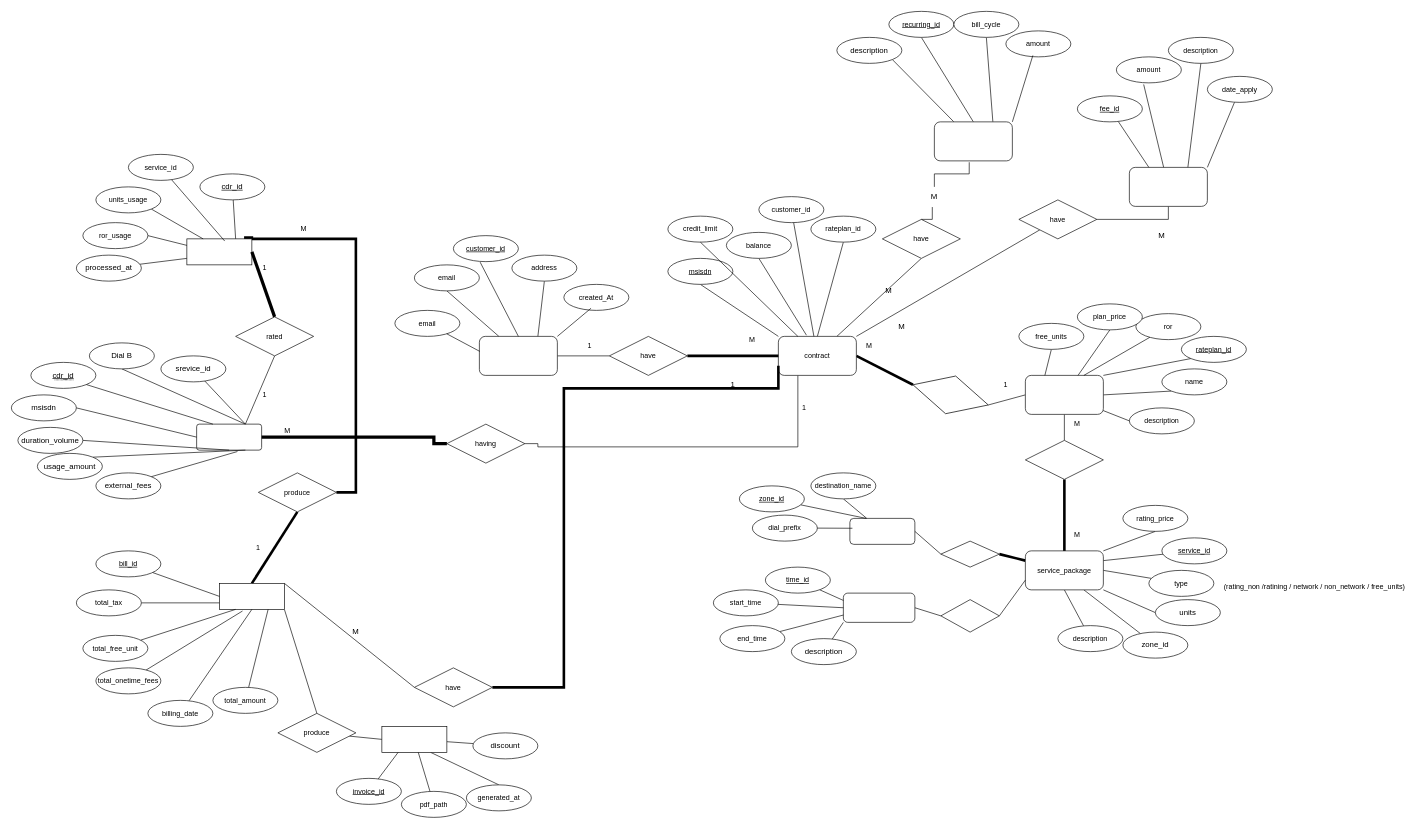
Image size: 1427x829. Some labels were removed from this diagram. Each missing label, with the centre of its shape:
"applies" goes at point 950,394.
"applies_for" goes at point 969,615.
"Bills" goes at point 251,596.
"CDR" goes at point 229,436.
"contain" goes at point 1064,459.
"customer" goes at point 518,355.
"depend_on" goes at point 969,553.
"invoicing" goes at point 414,739.
"onetime_fee" goes at point 1168,186.
"rated_cdr" goes at point 219,251.
"rateplan" goes at point 1064,394.
"recurring_service" goes at point 973,141.
"tarrif_time" goes at point 879,607.
"tarrif_zone" goes at point 882,531.
